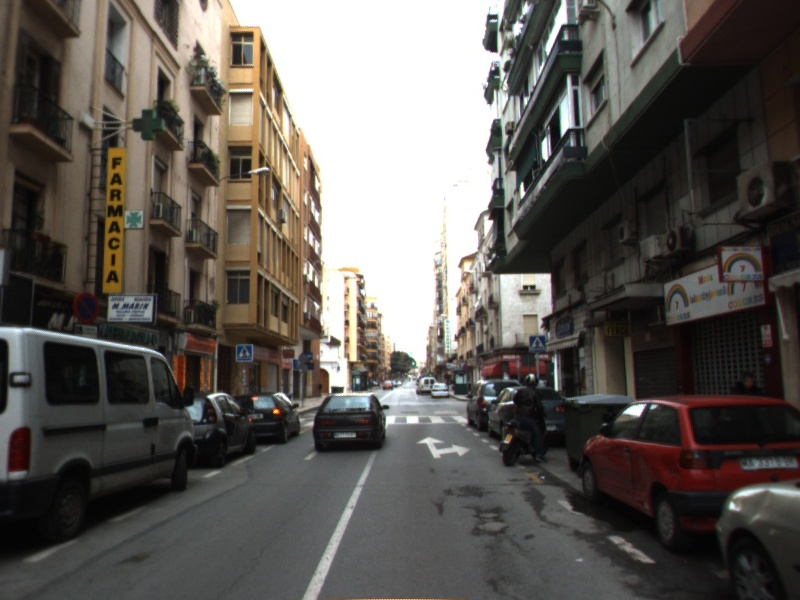STRAIGHT_RIGHT: (415, 435, 472, 460)
